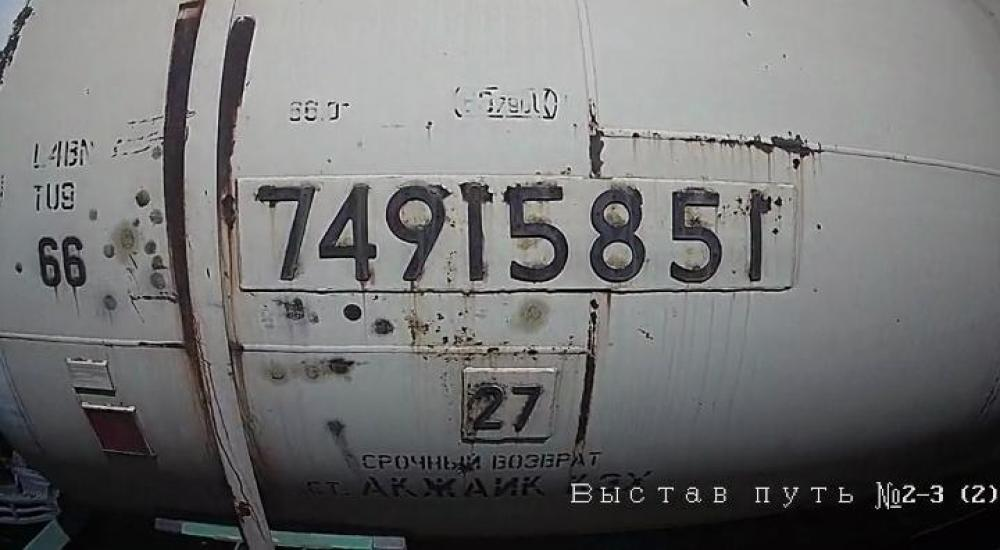Wagon-number: (251, 173, 776, 295)
